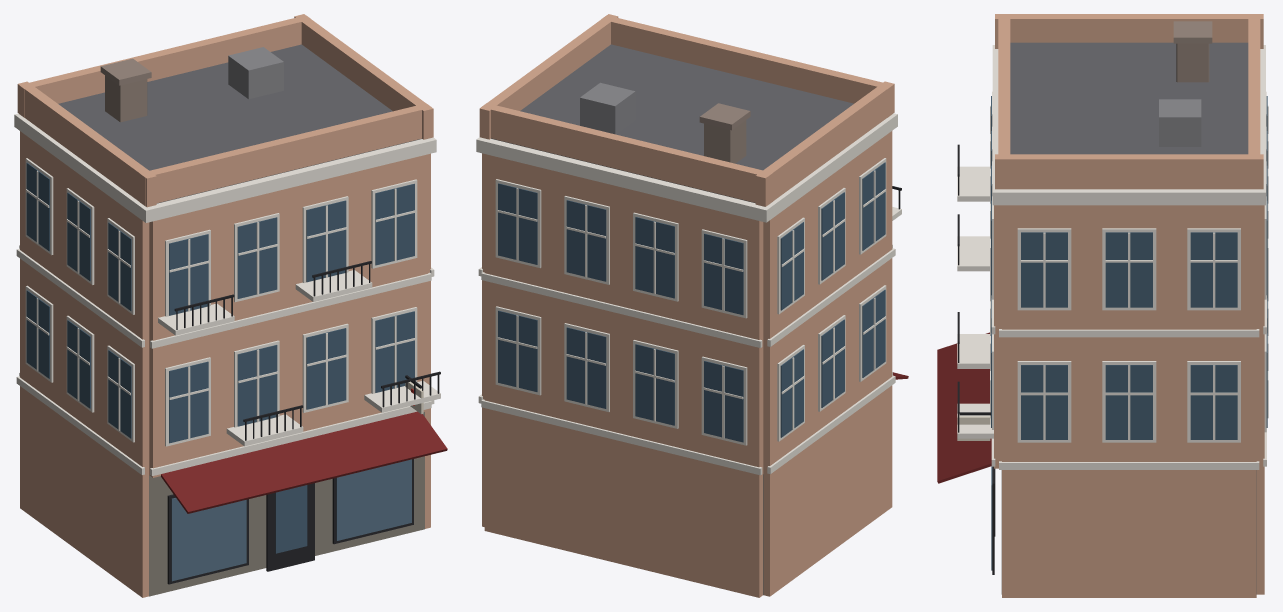
Rendered from hospital_4.glb.
The picture shows the model from 3 angles, left to right: view 1: azimuth 30°, elevation 25°; view 2: azimuth 150°, elevation 25°; view 3: azimuth 270°, elevation 25°; orthographic projection. The views are drawn at different scales.
Visible parts, largest first — view 1: hospital4_plaster, hospital4_glass, hospital4_stone, hospital4_wood, hospital4_cloth, hospital4_iron, hospital4_brick; view 2: hospital4_plaster, hospital4_glass, hospital4_wood, hospital4_stone, hospital4_iron, hospital4_brick; view 3: hospital4_plaster, hospital4_glass, hospital4_stone, hospital4_wood, hospital4_cloth, hospital4_iron, hospital4_brick.
Part boxes in pixels (left/top/right/bottom): hospital4_plaster: left=17, top=14, right=433, bottom=597; hospital4_glass: left=26, top=162, right=414, bottom=581; hospital4_stone: left=14, top=113, right=440, bottom=596; hospital4_wood: left=25, top=158, right=423, bottom=584; hospital4_cloth: left=161, top=411, right=447, bottom=513; hospital4_iron: left=174, top=47, right=440, bottom=440; hospital4_brick: left=100, top=58, right=151, bottom=122; hospital4_plaster: left=479, top=14, right=894, bottom=597; hospital4_glass: left=498, top=162, right=885, bottom=442; hospital4_wood: left=495, top=158, right=886, bottom=445; hospital4_stone: left=476, top=113, right=901, bottom=595; hospital4_iron: left=580, top=82, right=901, bottom=209; hospital4_brick: left=699, top=103, right=750, bottom=163; hospital4_plaster: left=994, top=14, right=1264, bottom=597; hospital4_glass: left=991, top=96, right=1267, bottom=570; hospital4_stone: left=957, top=45, right=1266, bottom=594; hospital4_wood: left=957, top=91, right=1268, bottom=574; hospital4_cloth: left=937, top=332, right=991, bottom=483; hospital4_iron: left=957, top=99, right=1201, bottom=432; hospital4_brick: left=1173, top=21, right=1212, bottom=82.
Bounding box in the file's own units: 7.51 × 10.77 × 7.03.
